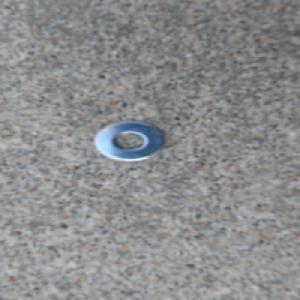Washer: (88, 117, 169, 164)
